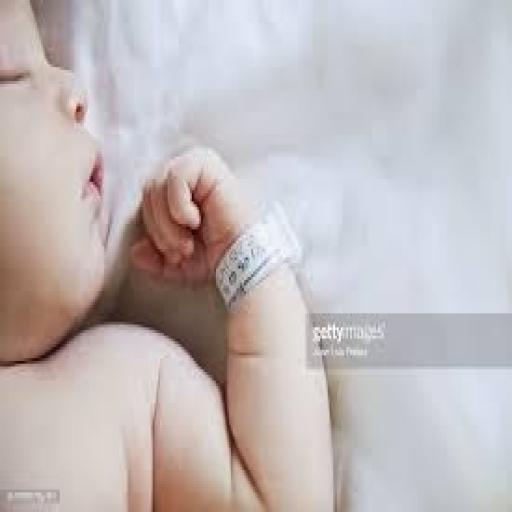sleeping: (0, 0, 337, 509)
